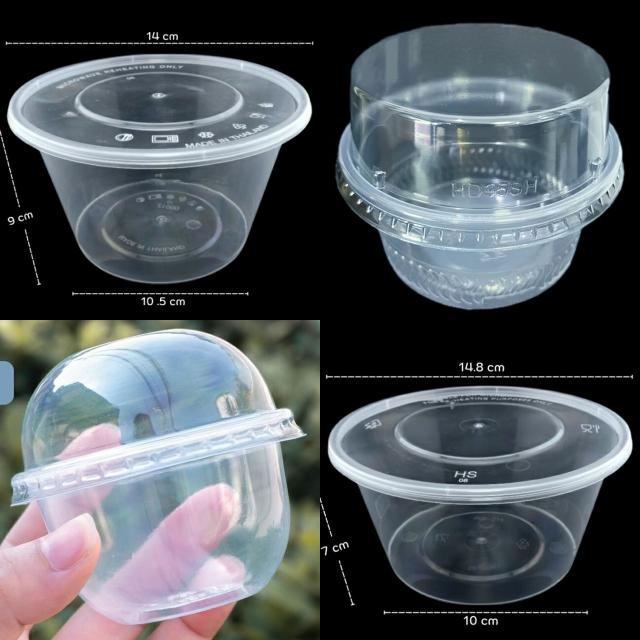Single-Use-Plastic: (12, 330, 302, 624), (336, 24, 624, 308), (8, 55, 311, 282), (329, 386, 632, 605)
